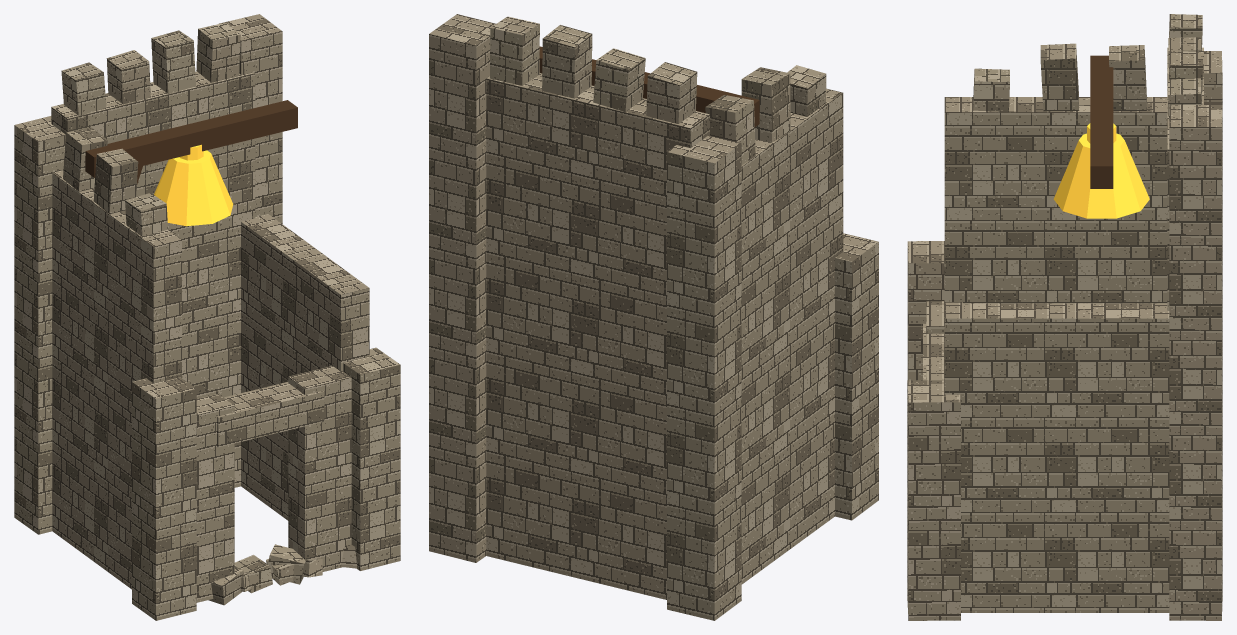
The model's file is bell_tower_ruined.glb.
The picture shows the model from 3 angles, left to right: view 1: azimuth 30°, elevation 25°; view 2: azimuth 150°, elevation 25°; view 3: azimuth 270°, elevation 25°; orthographic projection. The views are drawn at different scales.
Parts seen in each view (by area): view 1: wall_left, wall_back, wall_right, corner_pier_1, corner_pier_2, front_jamb_right, corner_pier_3, front_jamb_left, corner_pier_0, belfry_beam, front_lintel, bell_body (+10 smaller); view 2: wall_back, wall_left, corner_pier_1, corner_pier_0, corner_pier_2, crown_tooth_back_2, crown_tooth_back_3, crown_tooth_left_1, crown_tooth_back_1, crown_tooth_back_0, crown_tooth_left_2, crown_tooth_left_0 (+1 smaller); view 3: wall_right, wall_left, corner_pier_0, corner_pier_3, bell_body, corner_pier_2, belfry_beam, crown_tooth_left_1, crown_tooth_left_2, crown_tooth_left_0, corner_pier_1, crown_tooth_back_2 (+6 smaller).
Part boxes in pixels (x1,y1,x2,y2): wall_left: (52,170,181,589); wall_back: (51,71,255,487); wall_right: (241,214,369,520); corner_pier_1: (14,116,65,534); corner_pier_2: (132,377,196,620); front_jamb_right: (288,366,351,571); corner_pier_3: (343,347,400,570); front_jamb_left: (196,394,234,602); corner_pier_0: (219,14,282,223); belfry_beam: (85,100,297,177); front_lintel: (217,382,324,447); bell_body: (154,150,233,226); wall_back: (486,73,709,599); wall_left: (741,88,843,584); corner_pier_1: (667,135,741,620); corner_pier_0: (429,14,495,562); corner_pier_2: (835,233,878,520); crown_tooth_back_2: (542,25,592,98); crown_tooth_back_3: (490,16,539,85); crown_tooth_left_1: (741,67,790,142); crown_tooth_back_1: (593,48,645,111); crown_tooth_back_0: (646,62,697,123); crown_tooth_left_2: (705,95,755,164); crown_tooth_left_0: (787,65,826,116); wall_right: (944,303,1169,612); wall_left: (944,97,1167,303); corner_pier_0: (1169,104,1222,620); corner_pier_3: (907,380,960,620); bell_body: (1053,133,1149,218); corner_pier_2: (907,241,944,380); belfry_beam: (1090,55,1113,188); crown_tooth_left_1: (1040,43,1078,111); crown_tooth_left_2: (1109,45,1146,110); crown_tooth_left_0: (973,68,1009,111); corner_pier_1: (1204,51,1222,104); crown_tooth_back_2: (1168,51,1202,116).
Size of what is drawn, in the model's own units: 3.01 by 5.4 by 3.01.
Materials: 3 (1 with a texture image).
